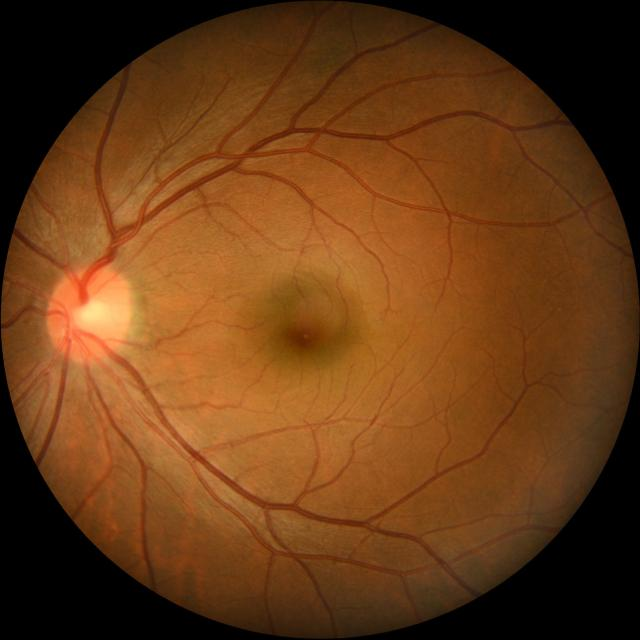OC: (71, 298, 112, 336)
OD: (46, 267, 130, 363)
